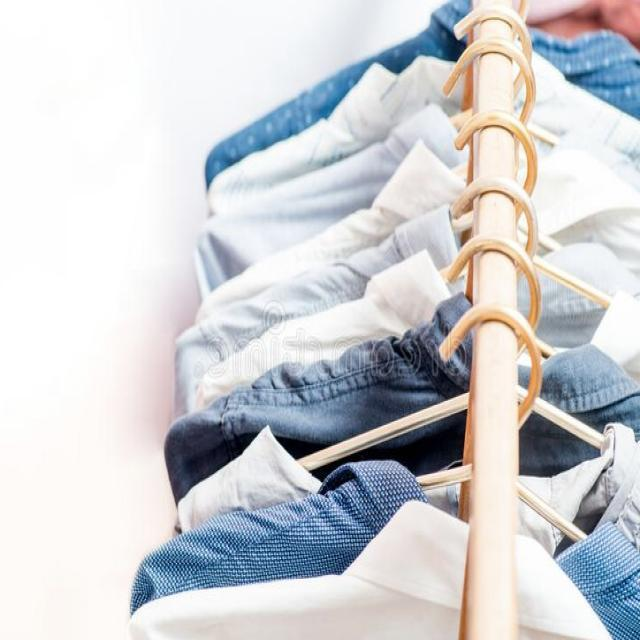clothes: (128, 83, 415, 640)
